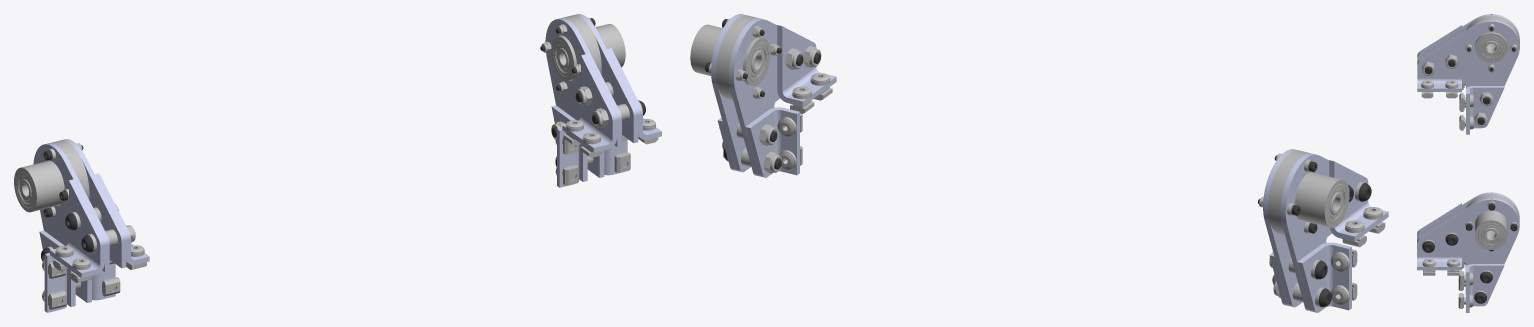
File: pillow_blocks.glb
3 views of the same model, side by side, from view 1: azimuth 30°, elevation 25°; view 2: azimuth 150°, elevation 25°; view 3: azimuth 270°, elevation 25° (orthographic). The views are drawn at different scales.
Parts seen in each view (by area): view 1: pillow_blocks; view 2: pillow_blocks; view 3: pillow_blocks.
Boxes of the visible parts, <box> form: pillow_blocks: <box>14,14,661,312</box>; pillow_blocks: <box>690,14,1388,312</box>; pillow_blocks: <box>1417,14,1519,312</box>.
Bounding box in the file's own units: 0.4 × 0.0957 × 0.0848.
